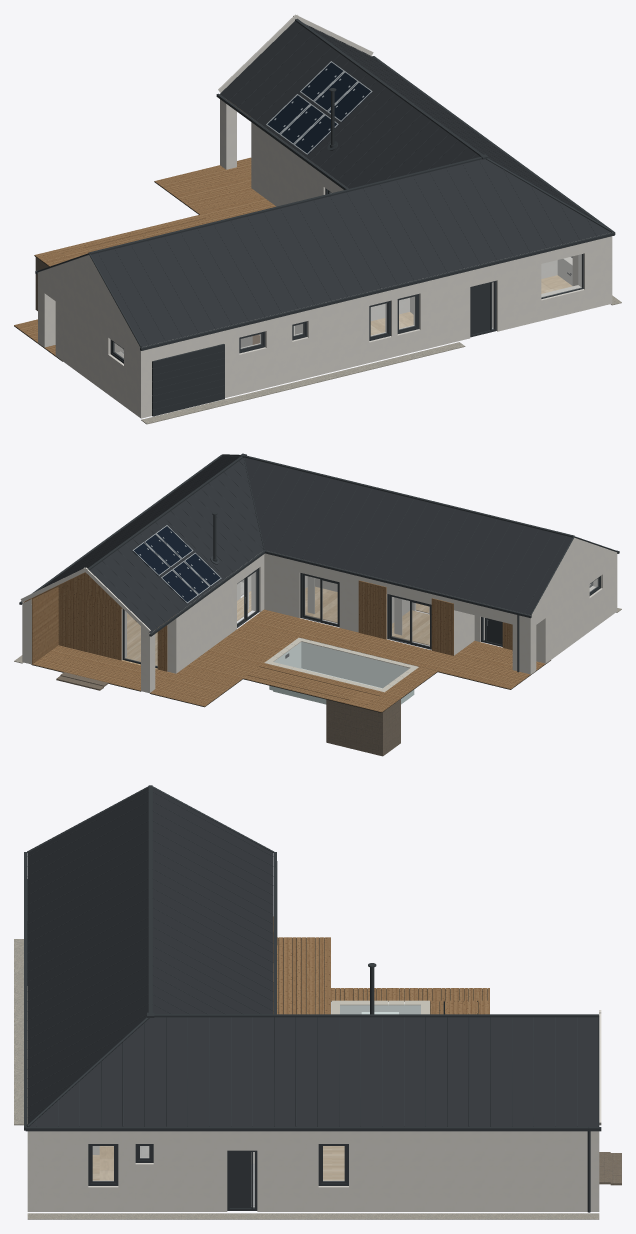
The model's file is dom-architecture.glb.
3 views of the same model, one above another, from view 1: azimuth 30°, elevation 25°; view 2: azimuth 150°, elevation 25°; view 3: azimuth 270°, elevation 25° (orthographic). The views are drawn at different scales.
Visible parts, largest first — view 1: DOM_01412 | Spojená strešná rovina · MAIN_FRONT, DOM_01414 | Spojená strešná rovina · WING_INNER, DOM_00079 | Južná fasáda · plášť 9, DOM_00113 | Garážový štít · plášť 4, DOM_00118 | Západná stena krídla · plášť 3, DOM_01639 | Terasa D1 · západné rameno krídla · 33,10 m², DOM_00085 | Južná fasáda · plášť 15, DOM_01415 | Spojená strešná rovina · WING_OUTER, DOM_00087 | Južná fasáda · plášť 17, DOM_00060 | Garážový štít, DOM_01743 | Kačírek · južná fasáda, DOM_00090 | Južná fasáda · plášť 20 (+26 smaller); view 2: DOM_01413 | Spojená strešná rovina · MAIN_GARDEN, DOM_01414 | Spojená strešná rovina · WING_INNER, DOM_01639 | Terasa D1 · západné rameno krídla · 33,10 m², DOM_01637 | Záhradná terasa · aktívne 30,60 m² · D1 34,80 m², DOM_00118 | Západná stena krídla · plášť 3, DOM_01648 | Bazénová drevená terasa · 1 m pozdĺžne / 2 m za , DOM_00146 | Krytá terasa · plná zadná stena · modřínový obkl, DOM_00113 | Garážový štít · plášť 4, DOM_01654 | Bazén 6,0 × 2,7 m · refrakčná vodná plocha presn, DOM_01642 | Terasa D1 · krytá terasa pod štítom · 16,45 m², DOM_01650 | Bazén 6,0 × 2,7 m · svetlá vnútorná stena 1, DOM_01415 | Spojená strešná rovina · WING_OUTER (+40 smaller); view 3: DOM_01415 | Spojená strešná rovina · WING_OUTER, DOM_01412 | Spojená strešná rovina · MAIN_FRONT, DOM_01413 | Spojená strešná rovina · MAIN_GARDEN, DOM_00109 | Východná fasáda · plášť 12, DOM_00104 | Východná fasáda · plášť 7, DOM_00106 | Východná fasáda · plášť 9, DOM_01637 | Záhradná terasa · aktívne 30,60 m² · D1 34,80 m², DOM_00098 | Východná fasáda · plášť 1, DOM_01744 | Kačírek · východná fasáda, DOM_01523 | Vonkajšia okapová hrana krídla · vizualizačný pr, DOM_01648 | Bazénová drevená terasa · 1 m pozdĺžne / 2 m za , DOM_01743 | Kačírek · južná fasáda (+16 smaller).
Boxes of the visible parts, box(x1,y1,x2,y2) form: DOM_01412 | Spojená strešná rovina · MAIN_FRONT: box(91, 159, 610, 346); DOM_01414 | Spojená strešná rovina · WING_INNER: box(220, 21, 479, 188); DOM_00079 | Južná fasáda · plášť 9: box(302, 292, 369, 377); DOM_00113 | Garážový štít · plášť 4: box(55, 285, 119, 394); DOM_00118 | Západná stena krídla · plášť 3: box(251, 118, 325, 206); DOM_01639 | Terasa D1 · západné rameno krídla · 33,10 m²: box(154, 165, 275, 222); DOM_00085 | Južná fasáda · plášť 15: box(413, 268, 470, 350); DOM_01415 | Spojená strešná rovina · WING_OUTER: box(306, 25, 595, 220); DOM_00087 | Južná fasáda · plášť 17: box(492, 251, 541, 331); DOM_00060 | Garážový štít: box(39, 255, 139, 345); DOM_01743 | Kačírek · južná fasáda: box(141, 342, 465, 424); DOM_00090 | Južná fasáda · plášť 20: box(578, 236, 612, 310); DOM_01413 | Spojená strešná rovina · MAIN_GARDEN: box(244, 457, 572, 614); DOM_01414 | Spojená strešná rovina · WING_INNER: box(89, 458, 263, 633); DOM_01639 | Terasa D1 · západné rameno krídla · 33,10 m²: box(150, 609, 318, 706); DOM_01637 | Záhradná terasa · aktívne 30,60 m² · D1 34,80 m²: box(299, 623, 550, 689); DOM_00118 | Západná stena krídla · plášť 3: box(167, 570, 236, 673); DOM_01648 | Bazénová drevená terasa · 1 m pozdĺžne / 2 m za : box(243, 663, 437, 712); DOM_00146 | Krytá terasa · plná zadná stena · modřínový obkl: box(58, 593, 121, 660); DOM_00113 | Garážový štít · plášť 4: box(536, 572, 589, 663); DOM_01654 | Bazén 6,0 × 2,7 m · refrakčná vodná plocha presn: box(274, 642, 409, 687); DOM_01642 | Terasa D1 · krytá terasa pod štítom · 16,45 m²: box(32, 645, 175, 691); DOM_01650 | Bazén 6,0 × 2,7 m · svetlá vnútorná stena 1: box(301, 641, 414, 695); DOM_01415 | Spojená strešná rovina · WING_OUTER: box(40, 456, 239, 589); DOM_01415 | Spojená strešná rovina · WING_OUTER: box(29, 1017, 599, 1126); DOM_01412 | Spojená strešná rovina · MAIN_FRONT: box(27, 788, 148, 1123); DOM_01413 | Spojená strešná rovina · MAIN_GARDEN: box(152, 788, 273, 1014); DOM_00109 | Východná fasáda · plášť 12: box(349, 1131, 599, 1211); DOM_00104 | Východná fasáda · plášť 7: box(153, 1131, 227, 1211); DOM_00106 | Východná fasáda · plášť 9: box(257, 1131, 318, 1211); DOM_01637 | Záhradná terasa · aktívne 30,60 m² · D1 34,80 m²: box(277, 937, 330, 1014); DOM_00098 | Východná fasáda · plášť 1: box(27, 1131, 88, 1211); DOM_01744 | Kačírek · východná fasáda: box(27, 1213, 599, 1219); DOM_01523 | Vonkajšia okapová hrana krídla · vizualizačný pr: box(25, 1127, 601, 1131); DOM_01648 | Bazénová drevená terasa · 1 m pozdĺžne / 2 m za : box(331, 988, 489, 1014); DOM_01743 | Kačírek · južná fasáda: box(14, 939, 27, 1125).
Bounding box in the file's own units: 22.11 × 8.54 × 20.25.
52 materials, 24 textured.
